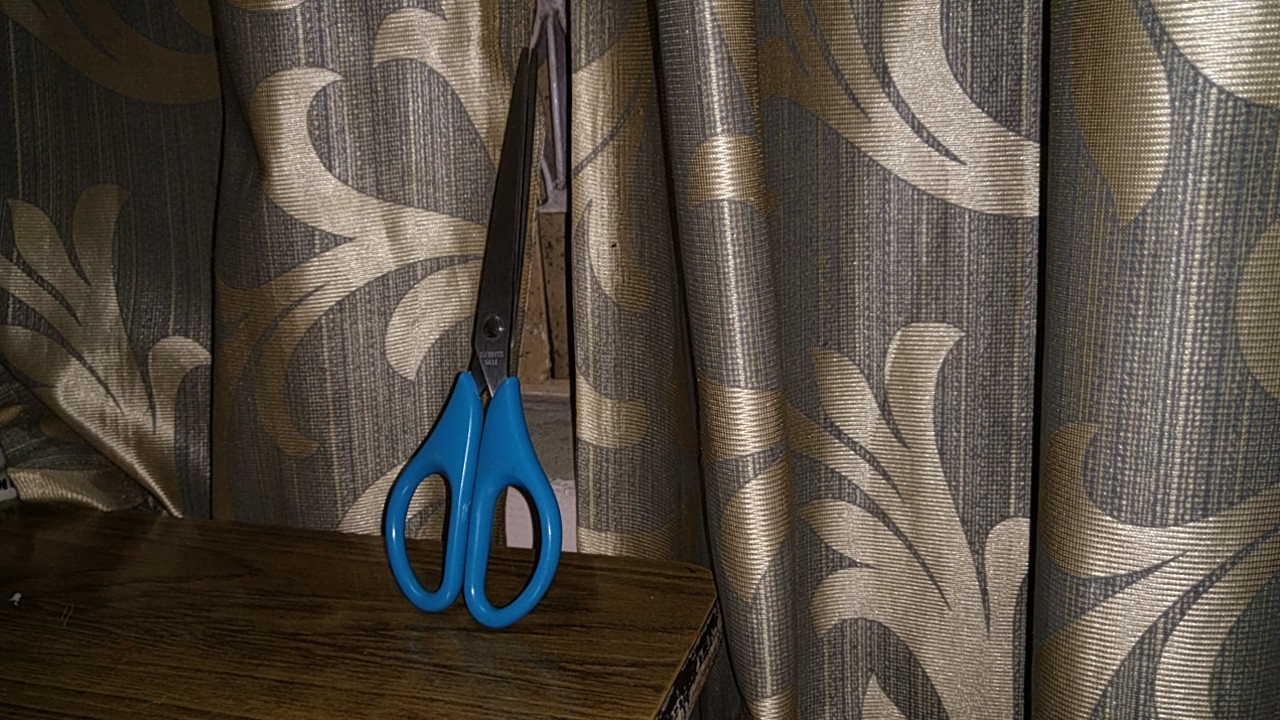scissor: (371, 8, 596, 650)
